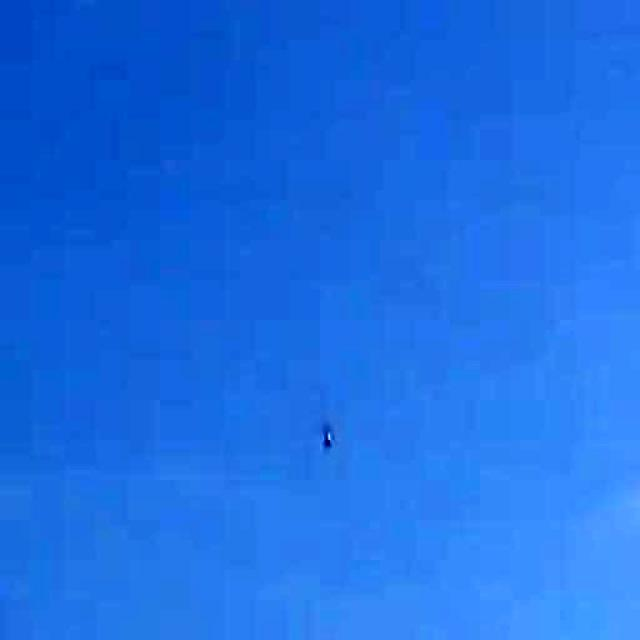drone: (298, 394, 355, 470)
